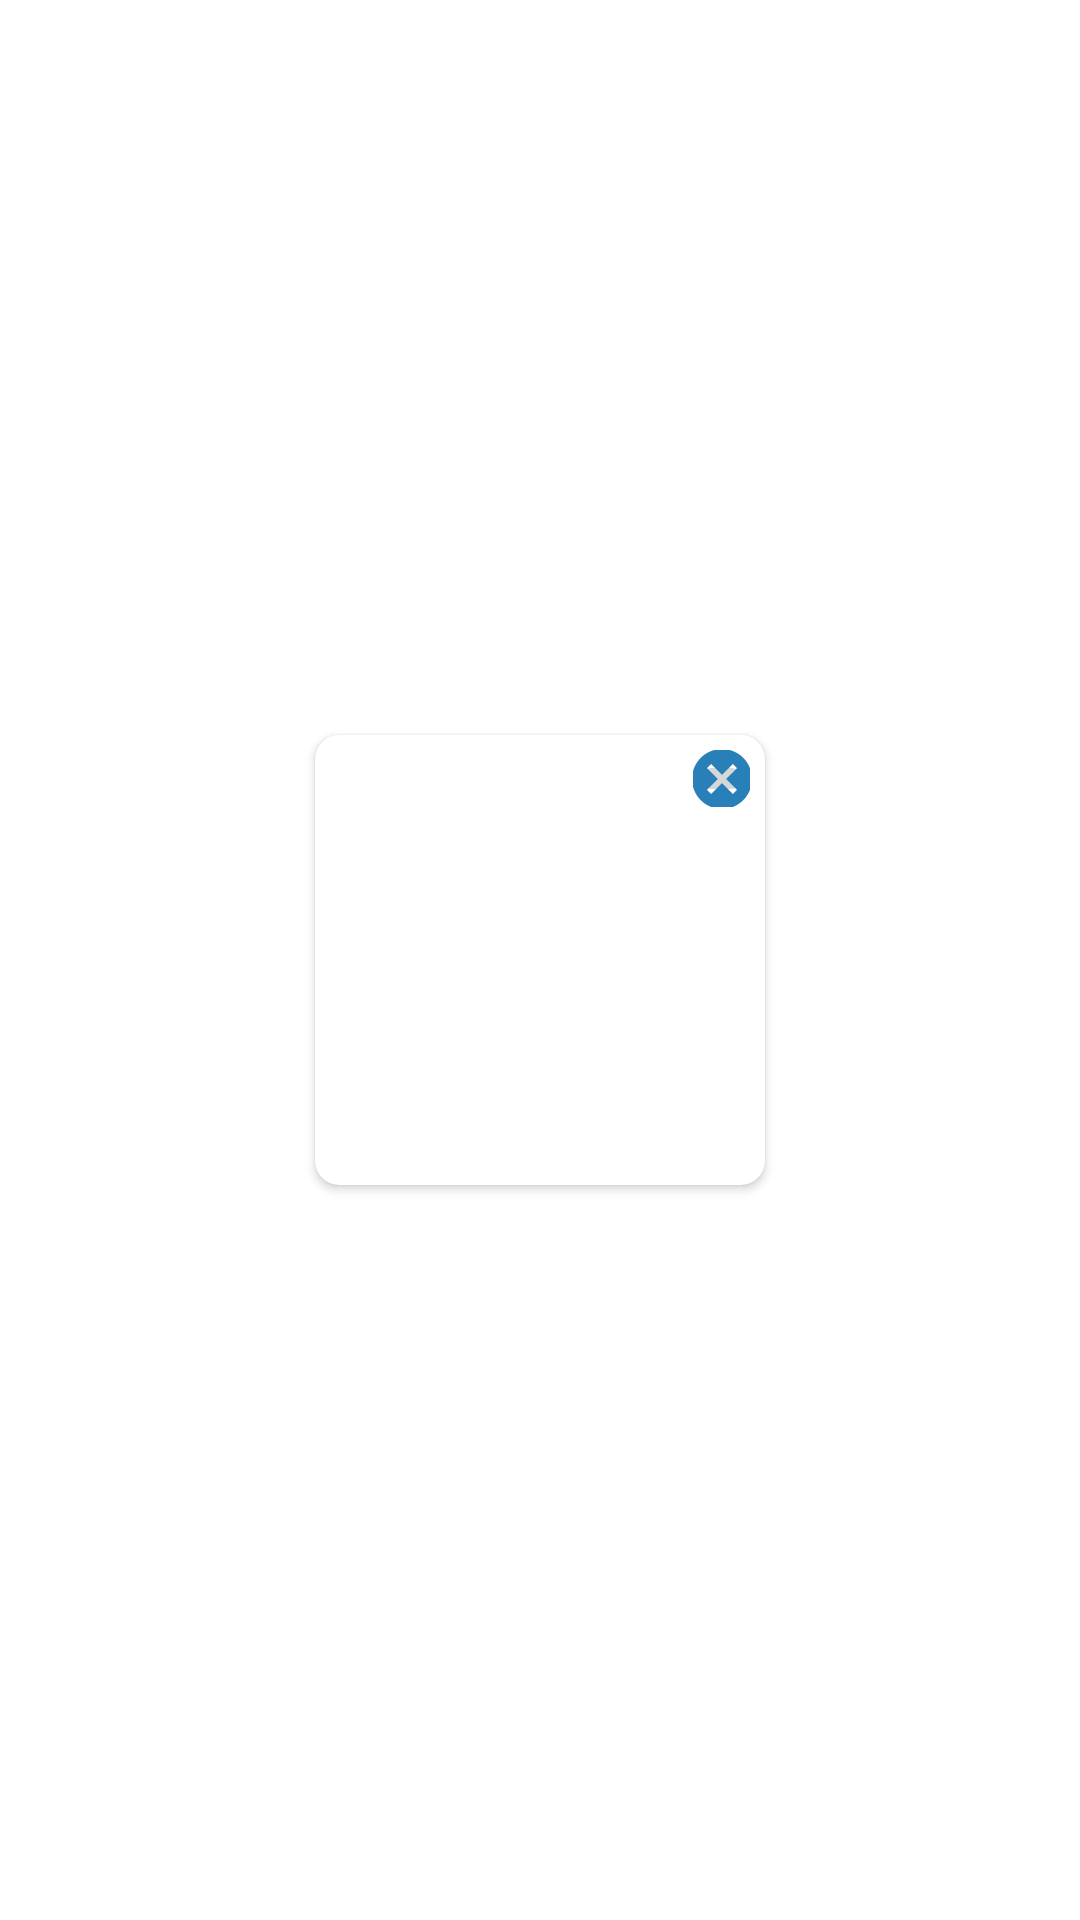

Locate icon controls on the screen. Image size 1080 x 1920, boxes as (x1, y1, x2, y2).
cancel: (693, 750, 750, 807)
